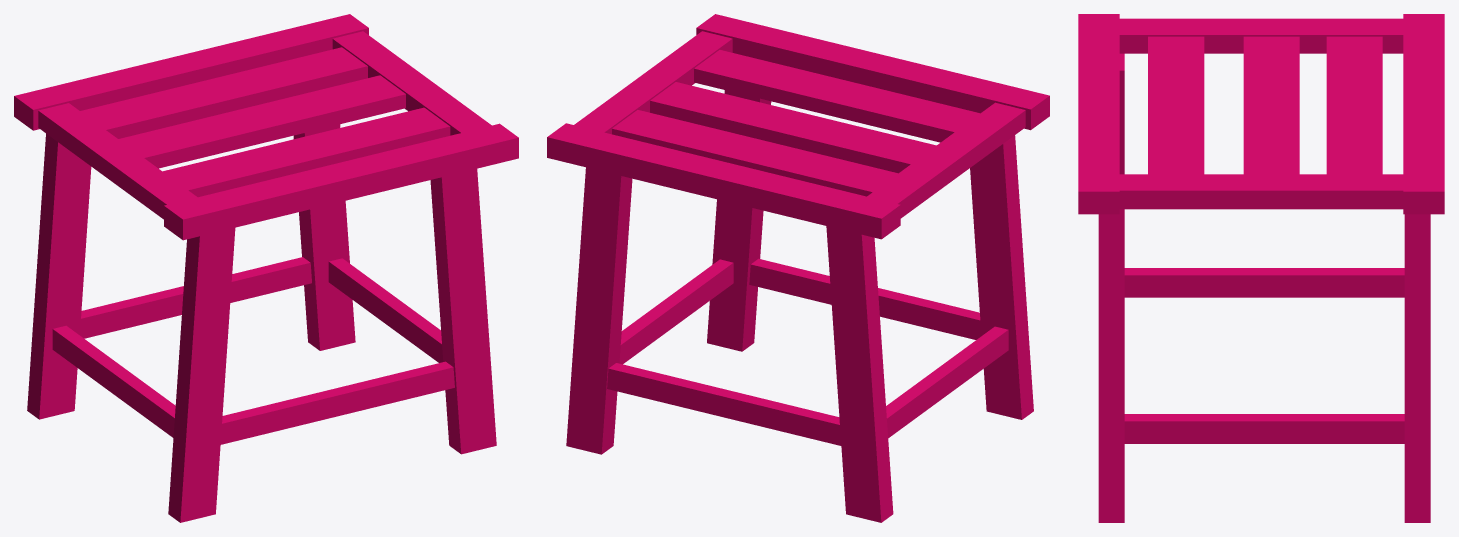
The model's file is Bench_01_Lod0.fbx.
3 views of the same model, side by side, from view 1: azimuth 30°, elevation 25°; view 2: azimuth 150°, elevation 25°; view 3: azimuth 270°, elevation 25° (orthographic). The views are drawn at different scales.
Visible parts, largest first — view 1: Bench_01_Lod0; view 2: Bench_01_Lod0; view 3: Bench_01_Lod0.
Part boxes in pixels (bbox=[...]): Bench_01_Lod0: bbox=[14, 14, 518, 522]; Bench_01_Lod0: bbox=[547, 14, 1049, 522]; Bench_01_Lod0: bbox=[1078, 14, 1444, 522].
Size of the model in its own units: 58.16 by 51.6 by 50.67.
